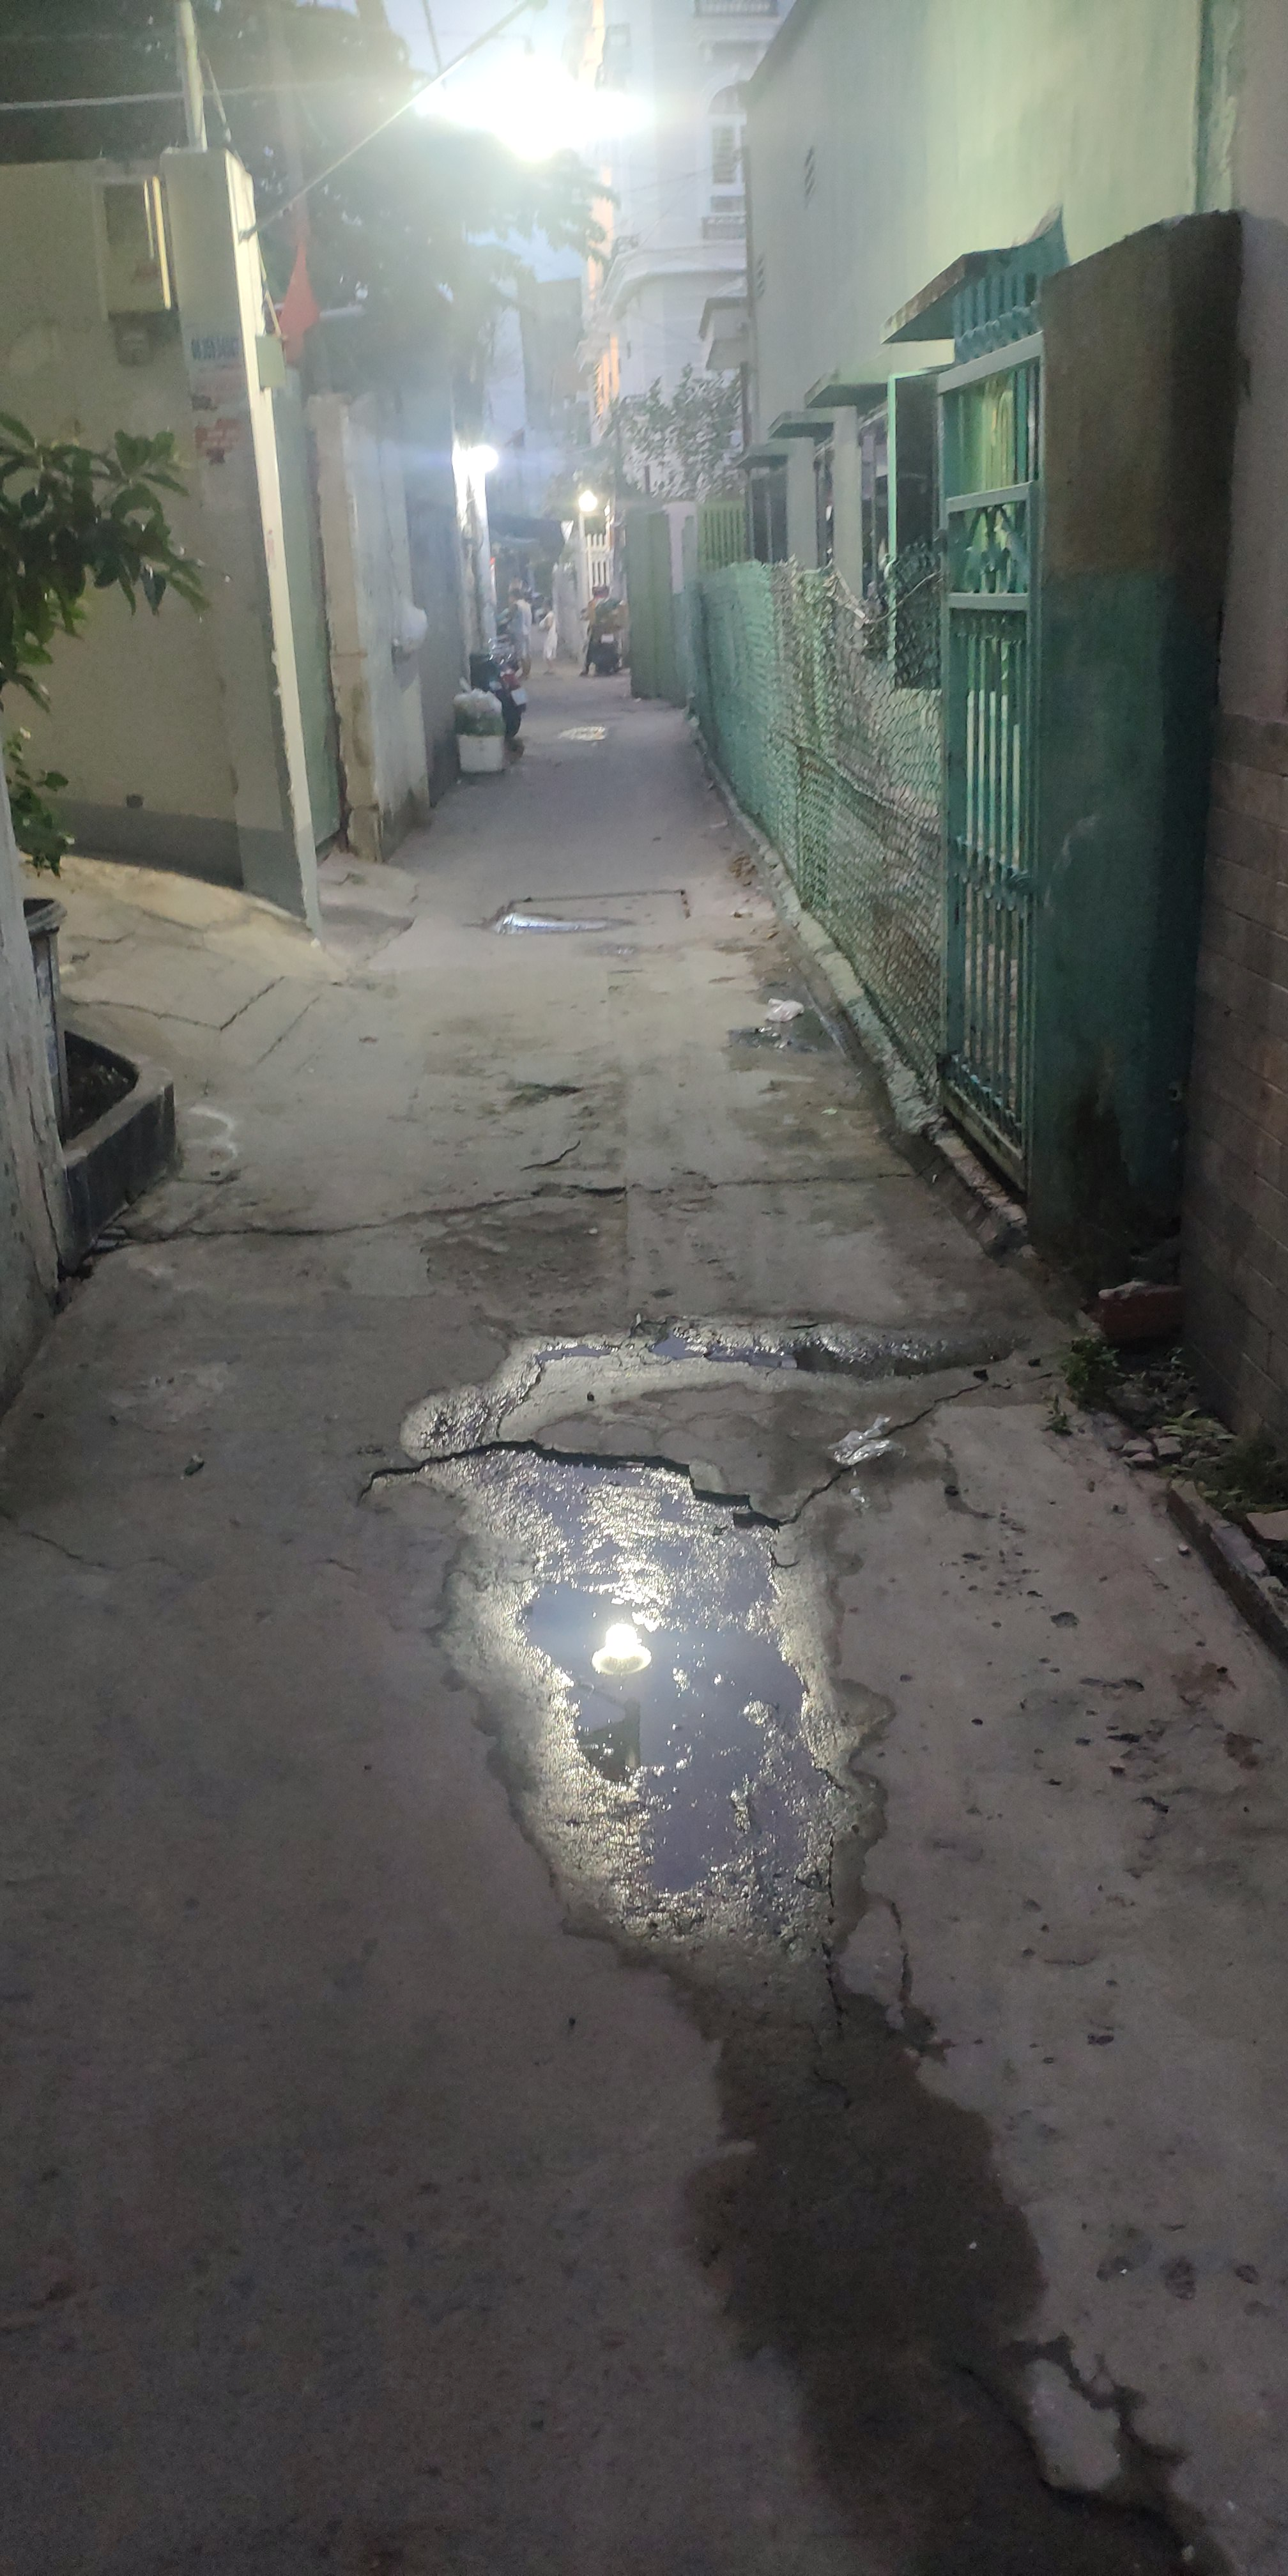hole: (353, 1433, 830, 1978), (513, 1134, 637, 1211), (488, 1073, 582, 1115), (552, 721, 606, 744)
